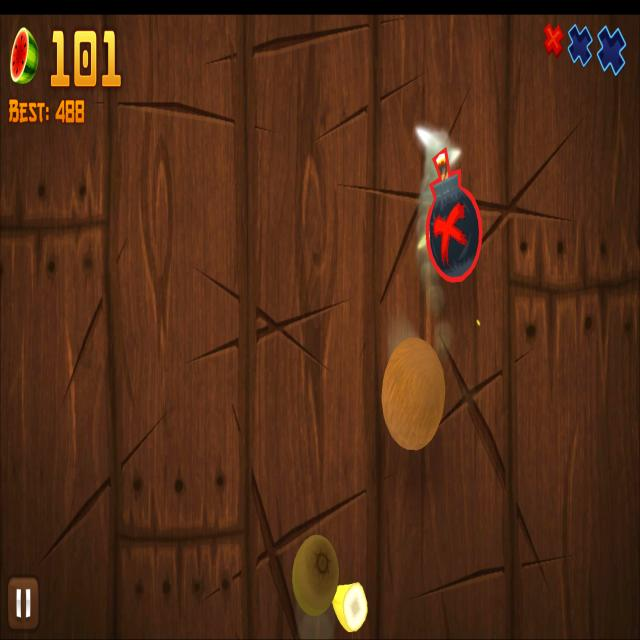bomb: (425, 147, 484, 286)
fruit: (382, 334, 446, 454), (292, 533, 340, 617)
